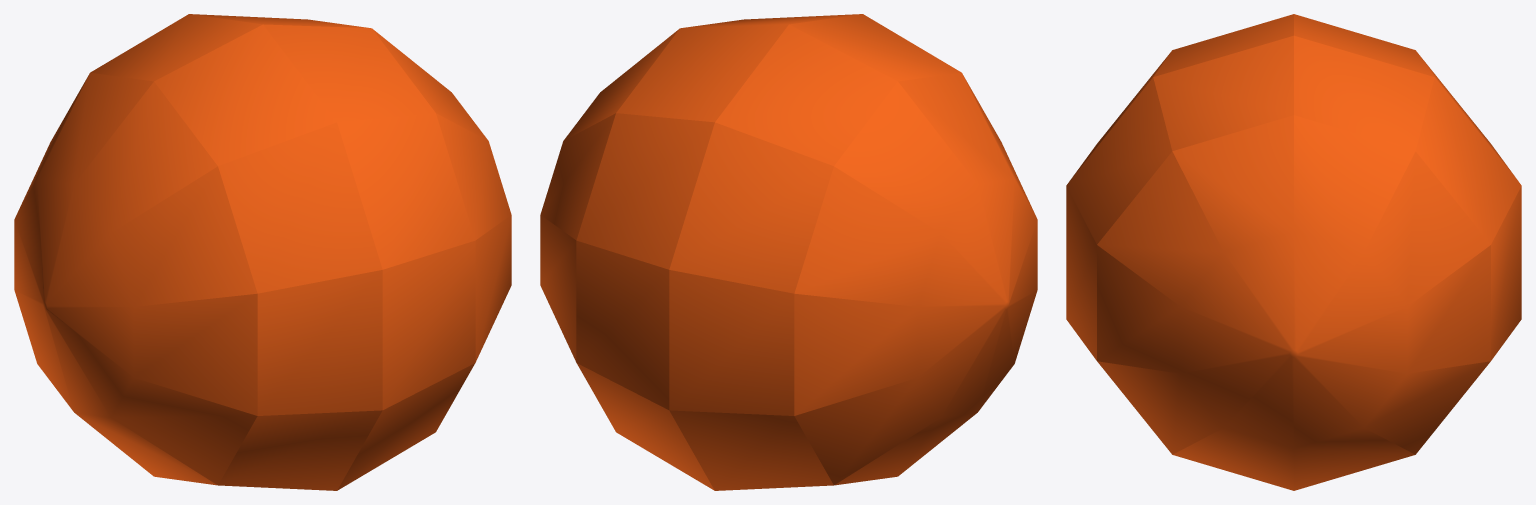
Rendered from front_marker.obj.
The picture shows the model from 3 angles, left to right: view 1: azimuth 30°, elevation 25°; view 2: azimuth 150°, elevation 25°; view 3: azimuth 270°, elevation 25°; orthographic projection. The views are drawn at different scales.
Parts seen in each view (by area): view 1: front_marker; view 2: front_marker; view 3: front_marker.
Boxes of the visible parts, left/top/right/bottom form: front_marker: left=14, top=14, right=511, bottom=490; front_marker: left=540, top=14, right=1037, bottom=490; front_marker: left=1066, top=14, right=1521, bottom=490.
Bounding box in the file's own units: 0.012 × 0.012 × 0.0114.
